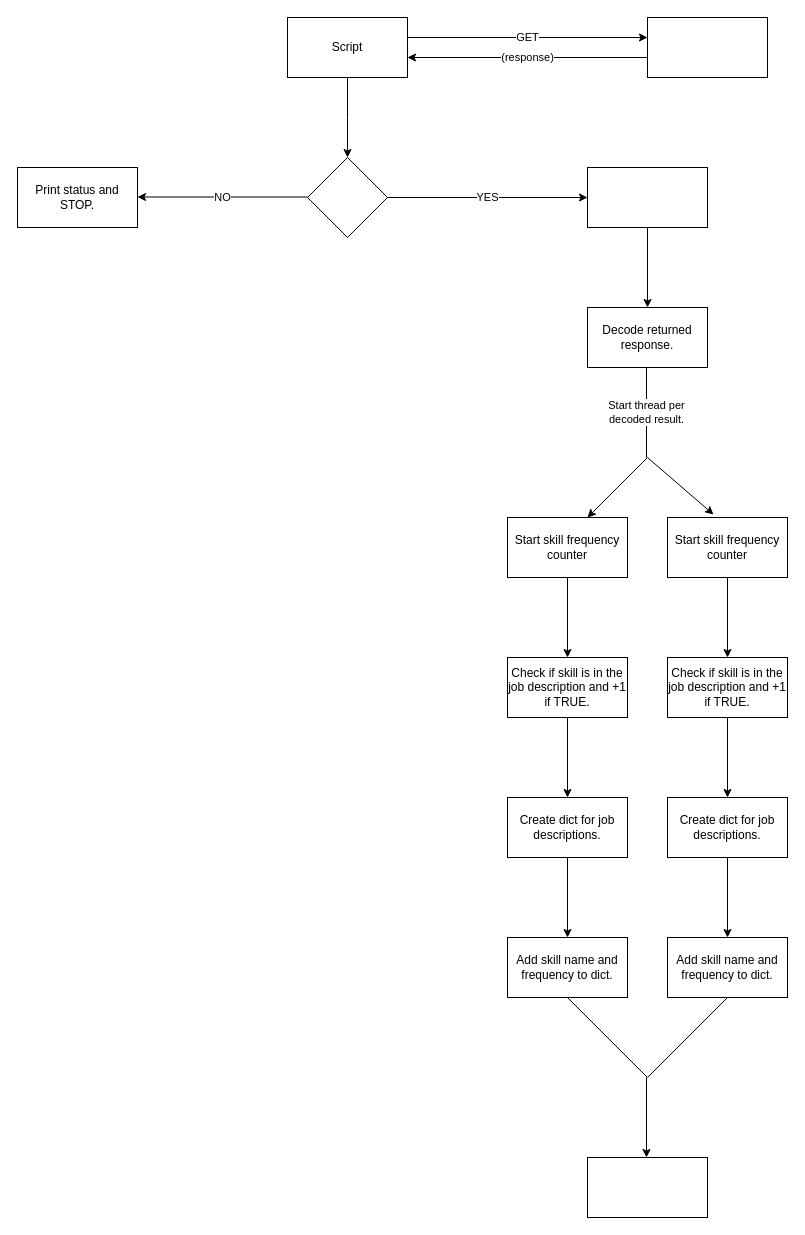
Image size: 805x1235. Some labels were removed from this diagram. Each missing label, with the box of its shape:
CLIENT: (646, 16, 768, 78)
Combine both dicts and output. (either to another API or on screen).: (586, 1156, 708, 1218)
Get skills from file and add to a list.: (586, 166, 708, 228)
Status 200?: (306, 156, 388, 238)
